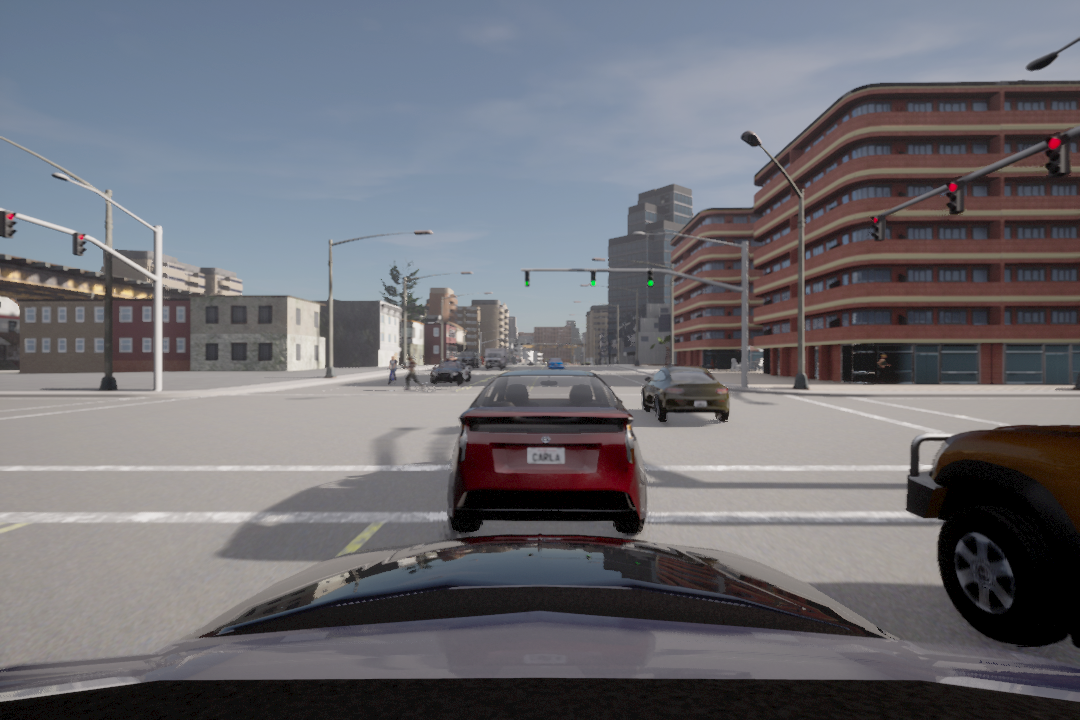TrafficLight: (1044, 132, 1073, 177), (944, 181, 966, 216), (1, 211, 21, 240), (69, 232, 88, 259), (871, 212, 885, 244), (646, 267, 656, 287), (589, 267, 597, 290), (523, 269, 532, 286)
